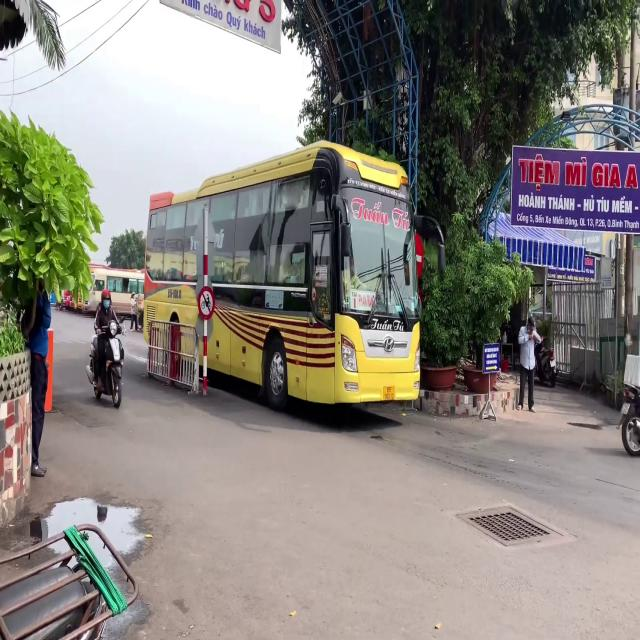bien_vang: (382, 385, 396, 401)
